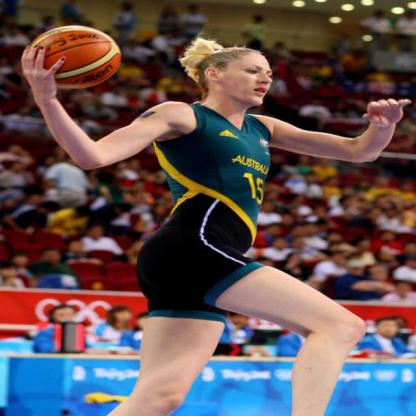basketball: (22, 22, 121, 91)
